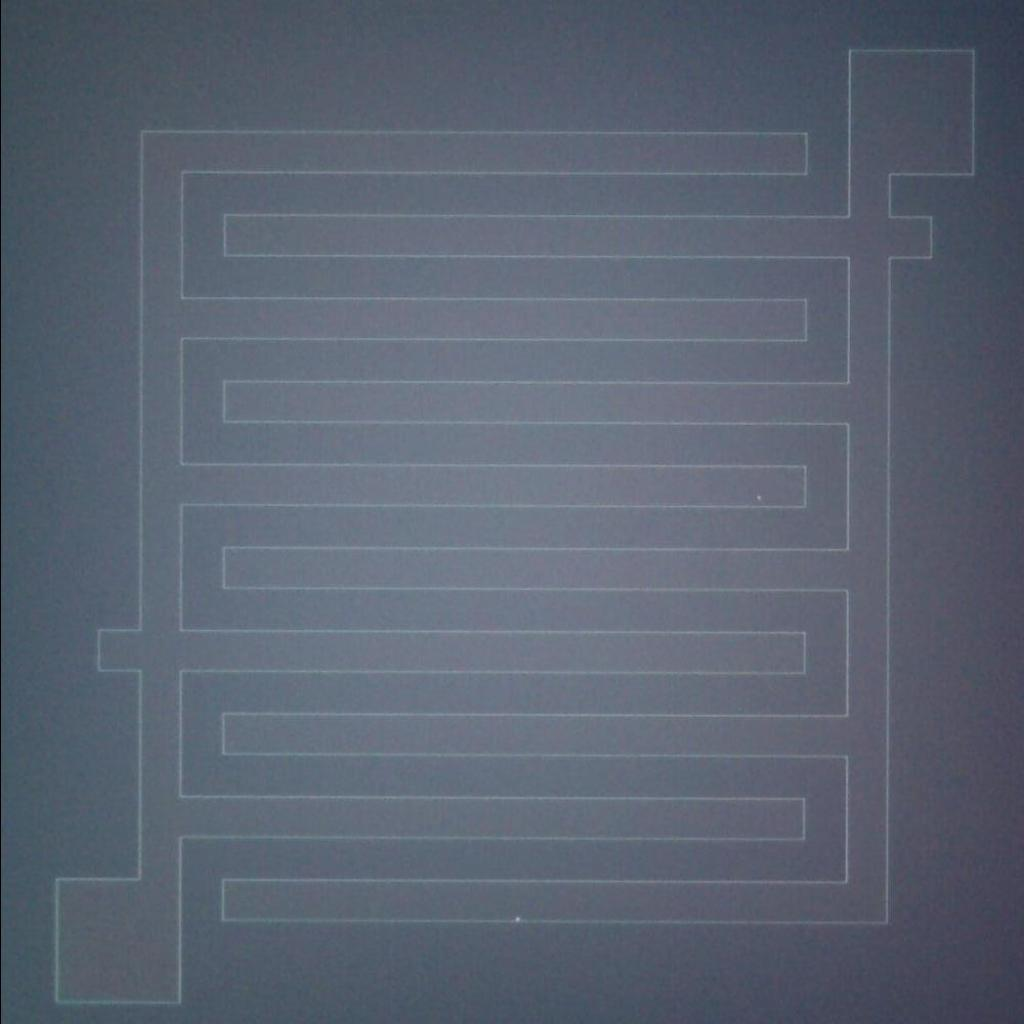budge circuit: (876, 204, 947, 274), (83, 615, 151, 684)
dot: (502, 907, 534, 930)
